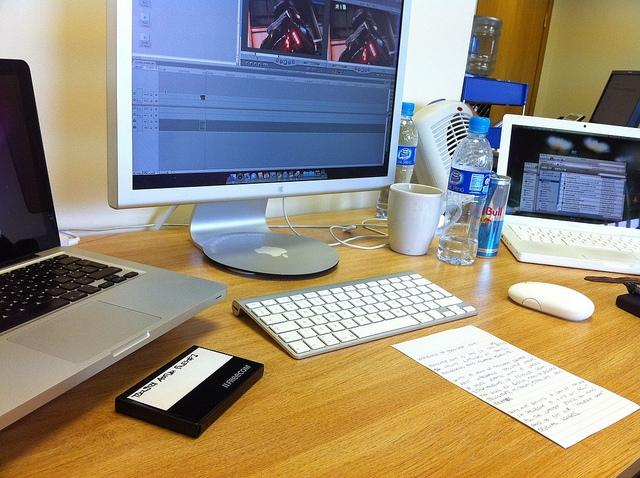apple: (254, 246, 288, 258)
